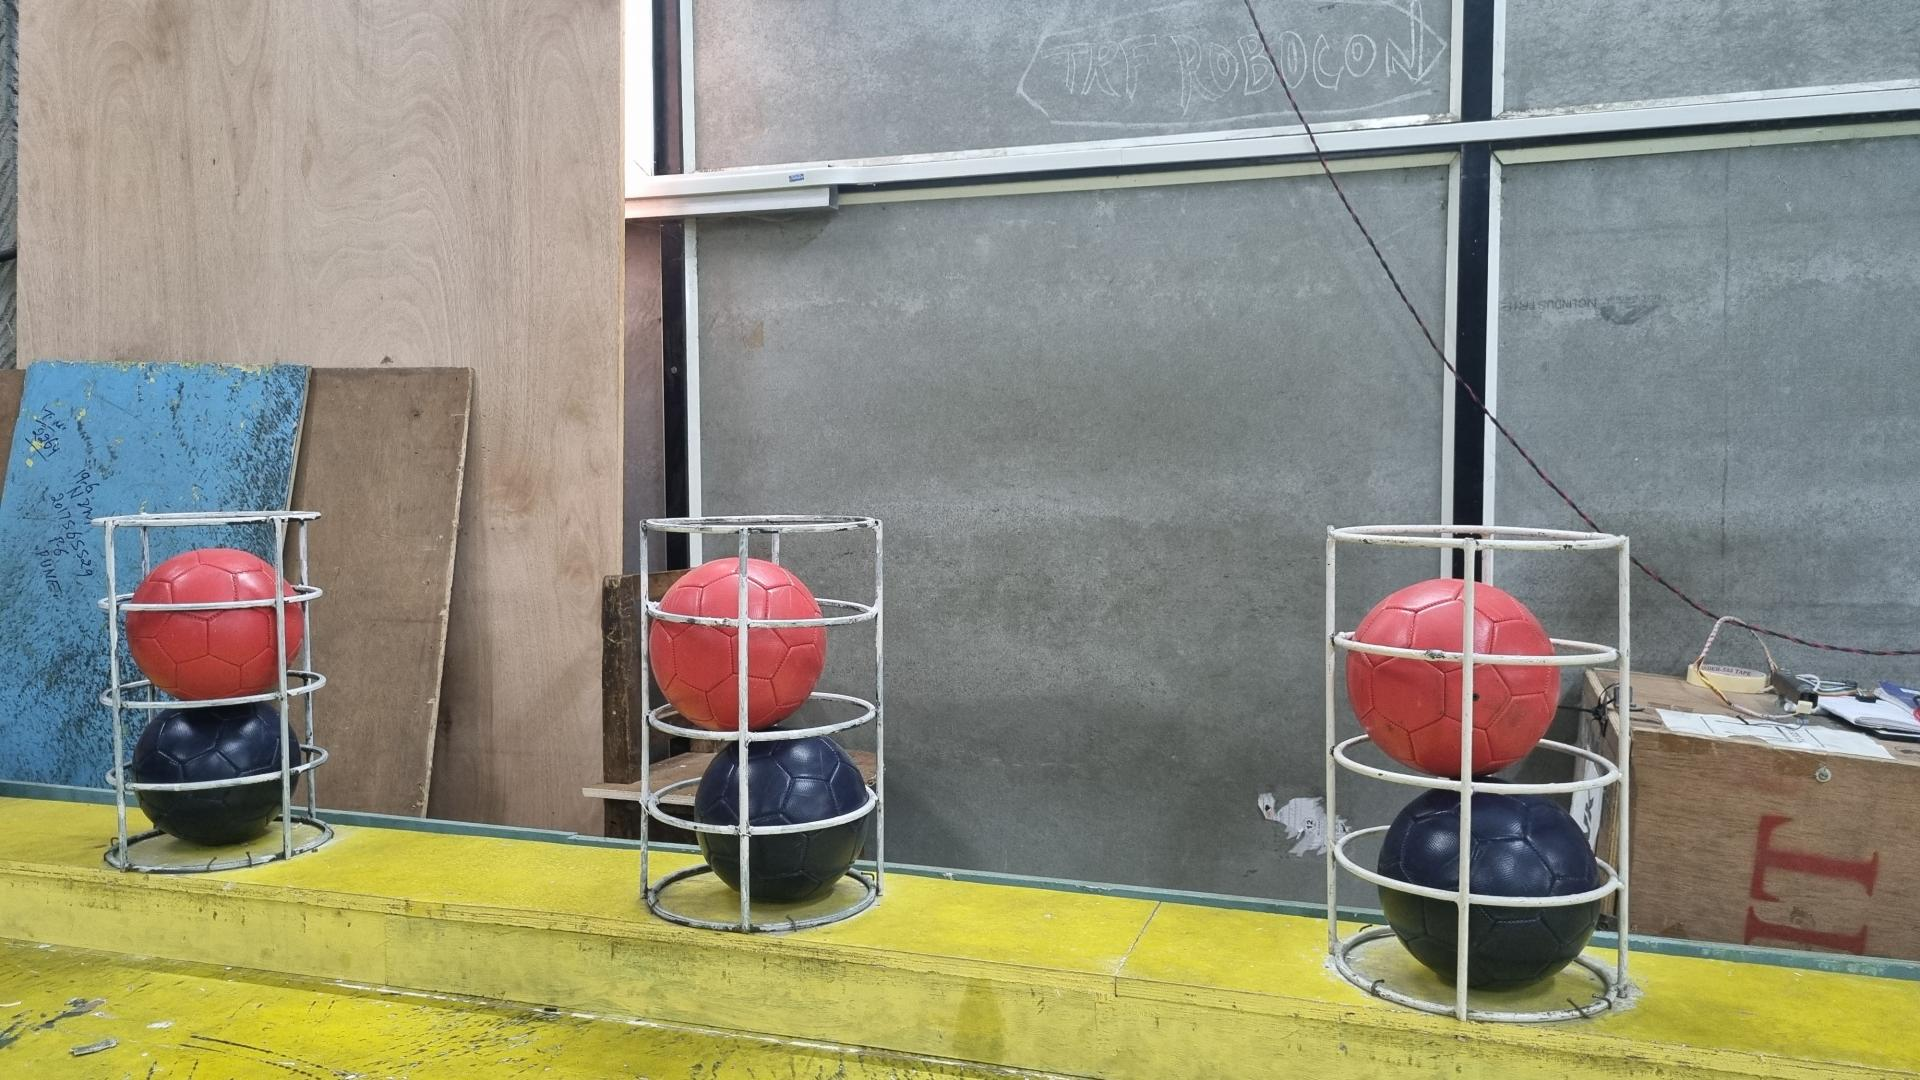dhoka: (1375, 787, 1605, 989), (692, 737, 872, 906), (129, 702, 302, 844)
laale: (1346, 578, 1560, 779), (646, 556, 827, 732), (125, 546, 310, 700)
